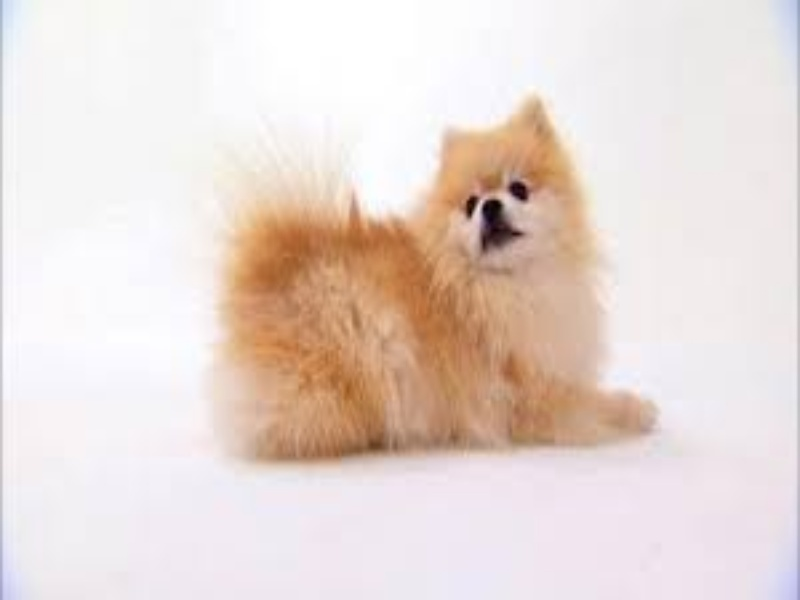dog: (193, 91, 671, 465)
